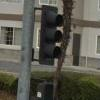Traffic light: (33, 4, 71, 71)
